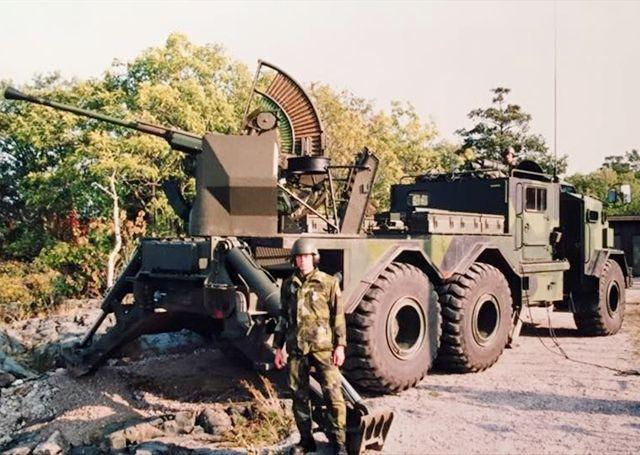MIL_SPG: (5, 61, 630, 392)
